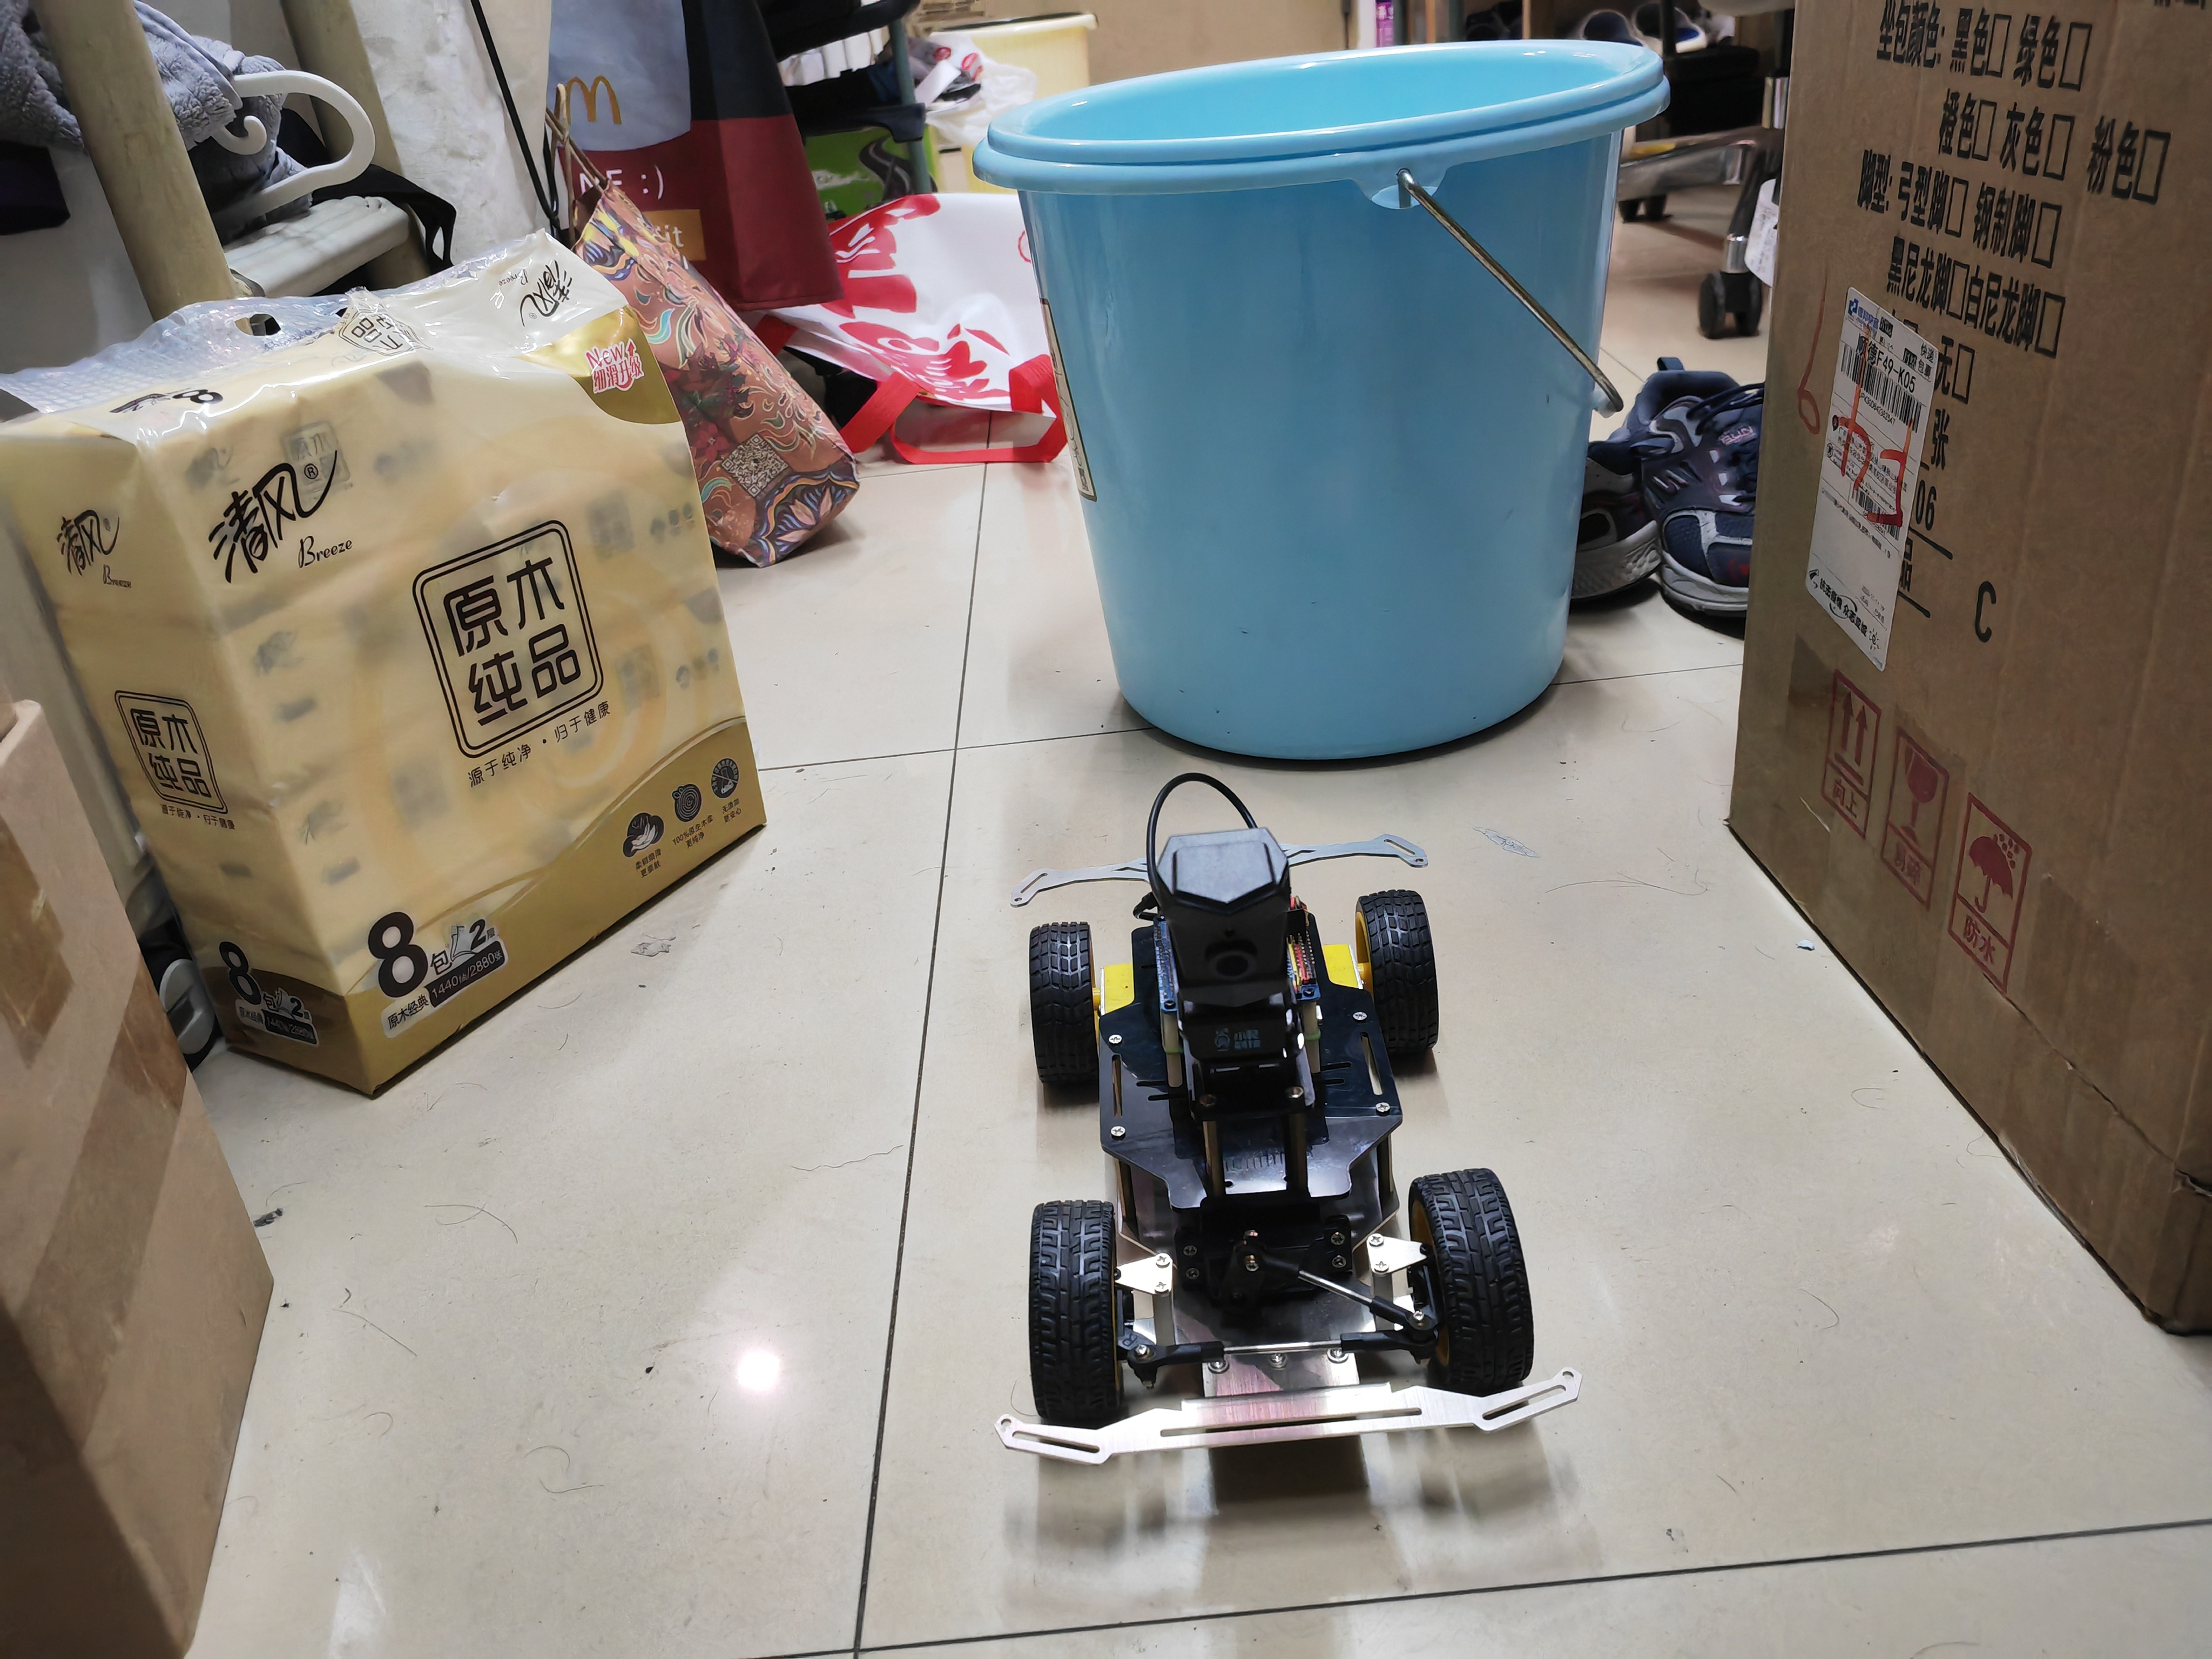car: (968, 755, 1601, 1511)
